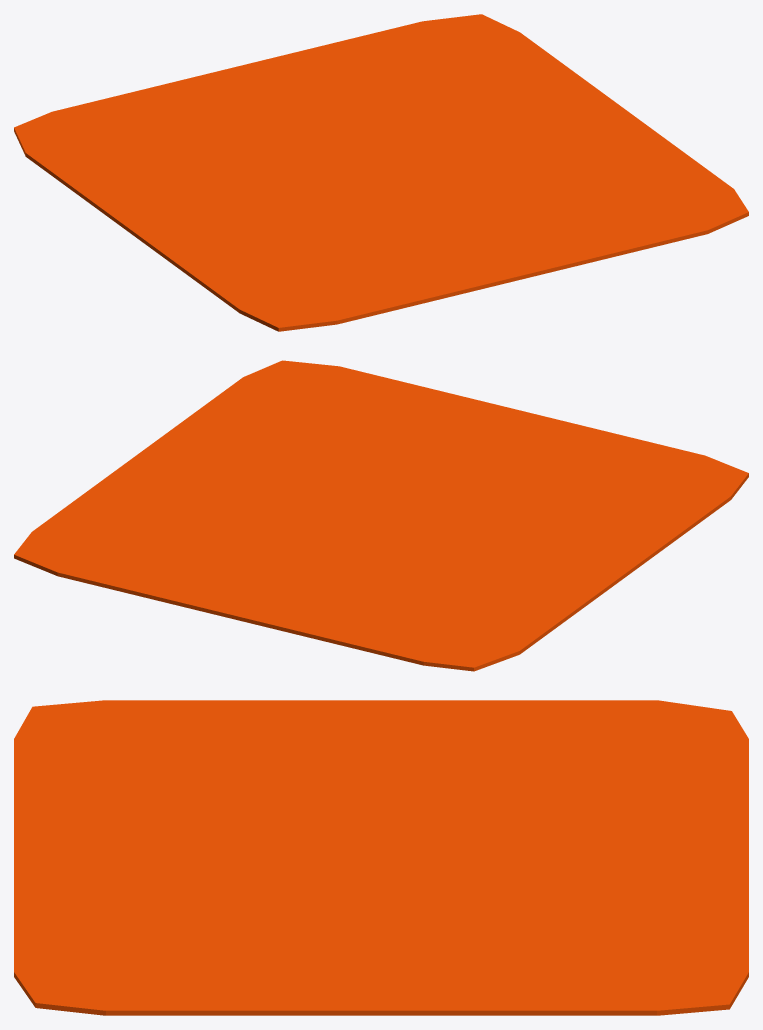
File: cheddarcheese.FBX
The picture shows the model from 3 angles, top to bottom: view 1: azimuth 30°, elevation 25°; view 2: azimuth 150°, elevation 25°; view 3: azimuth 270°, elevation 25°; orthographic projection. The views are drawn at different scales.
Parts seen in each view (by area): view 1: Plane; view 2: Plane; view 3: Plane.
Part boxes in pixels (<box>): Plane: <box>14,14,748,331</box>; Plane: <box>14,360,748,671</box>; Plane: <box>14,700,748,1015</box>.
Size of the model in its own units: 0.00104 by 7.82e-06 by 0.00104.
